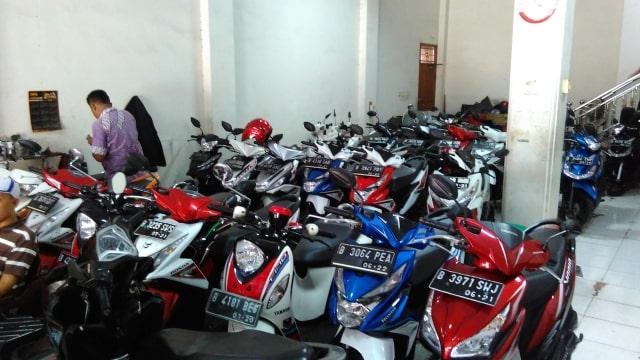plate: (430, 269, 501, 305), (332, 242, 395, 276), (206, 288, 258, 326), (137, 220, 170, 237), (353, 163, 385, 179), (30, 193, 55, 212), (301, 158, 330, 173), (567, 155, 592, 166)
